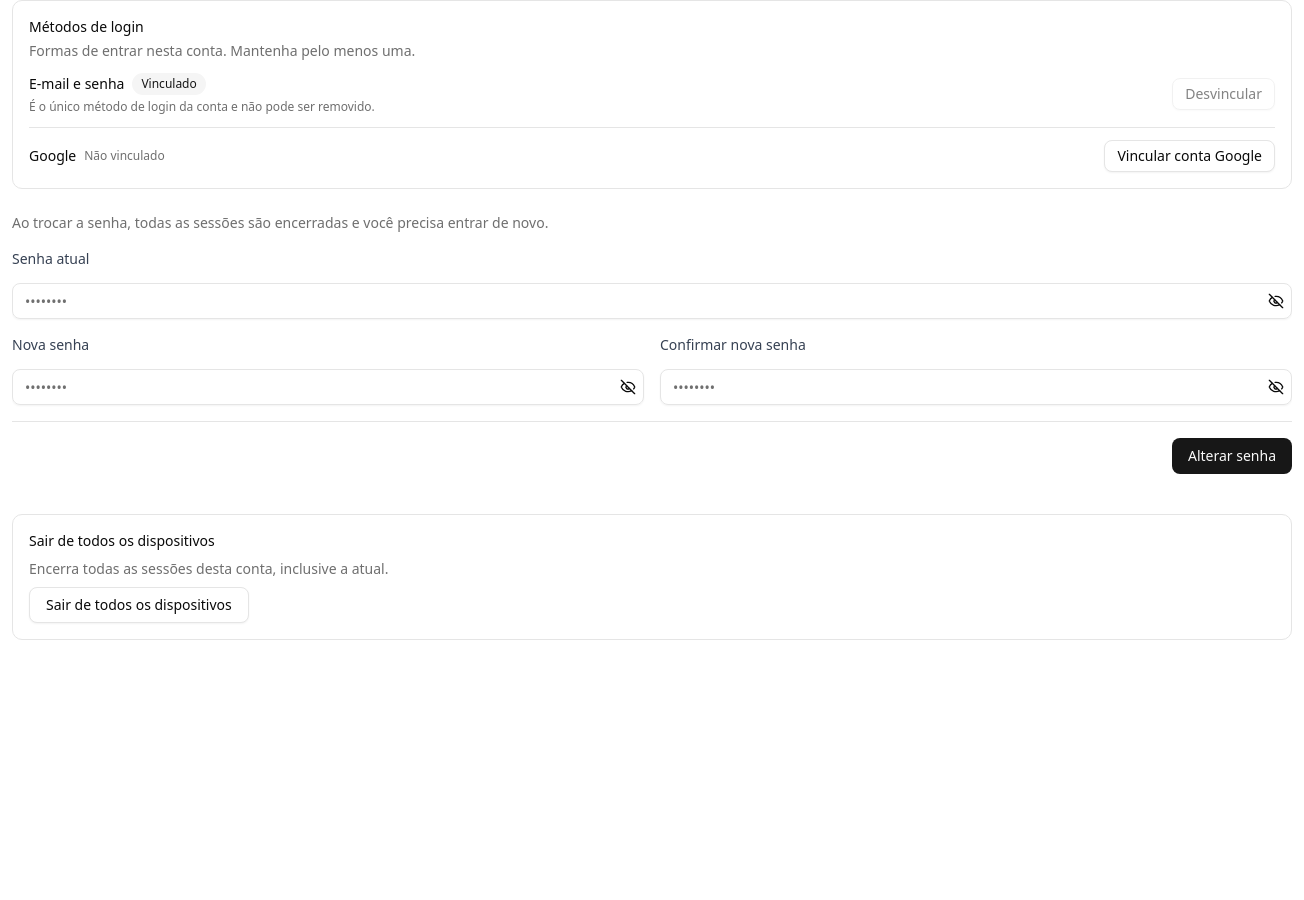
Test: AccountSecurityForm — troca de senha › não envia a troca quando a confirmação não bate
Type "current-secret" into the password field named "currentPassword" at [652, 301], box [12,283,1292,319]
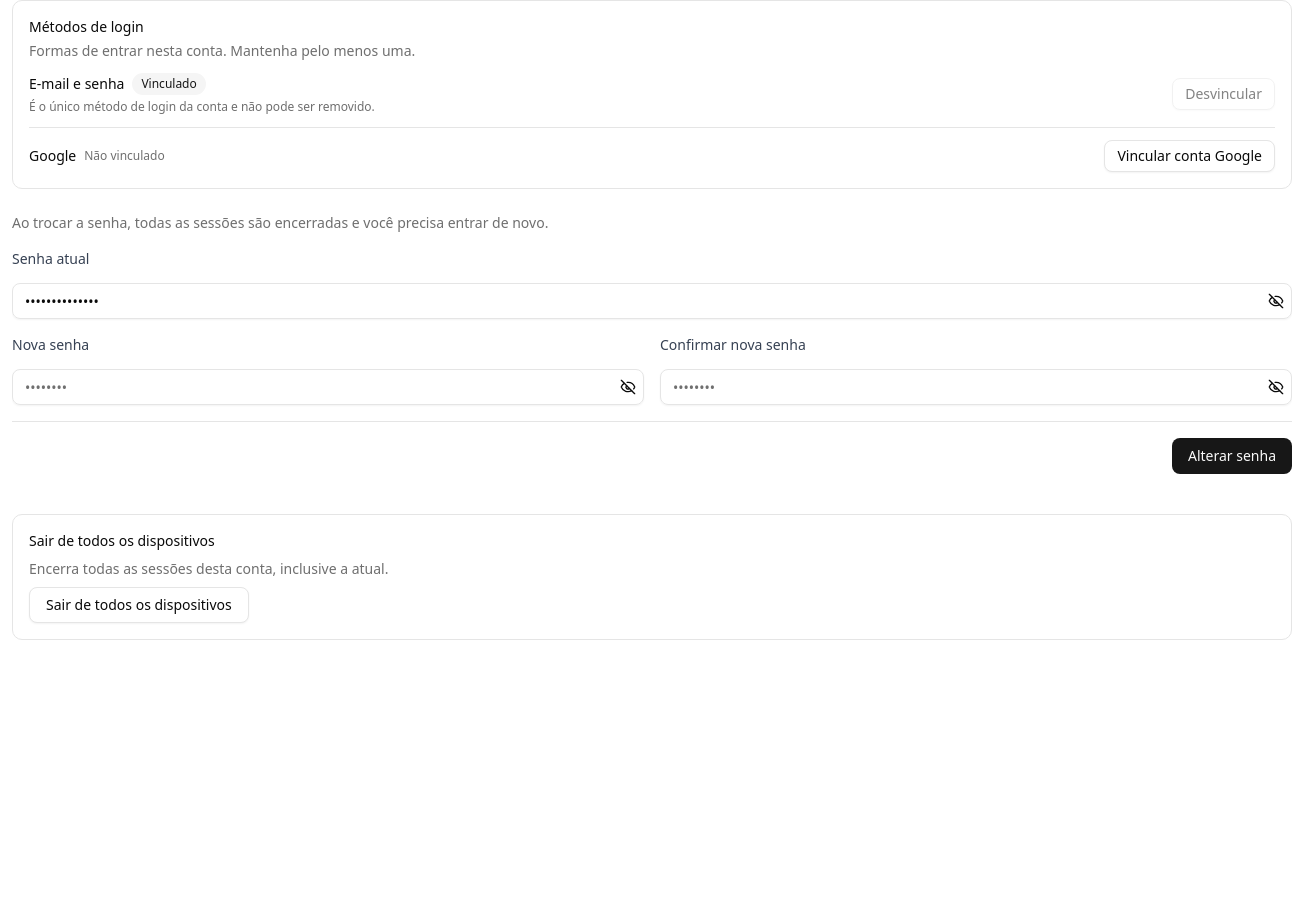
Type "brand-new-secret" into the password field labelled "Nova senha" at [328, 387], box [12,369,644,405]
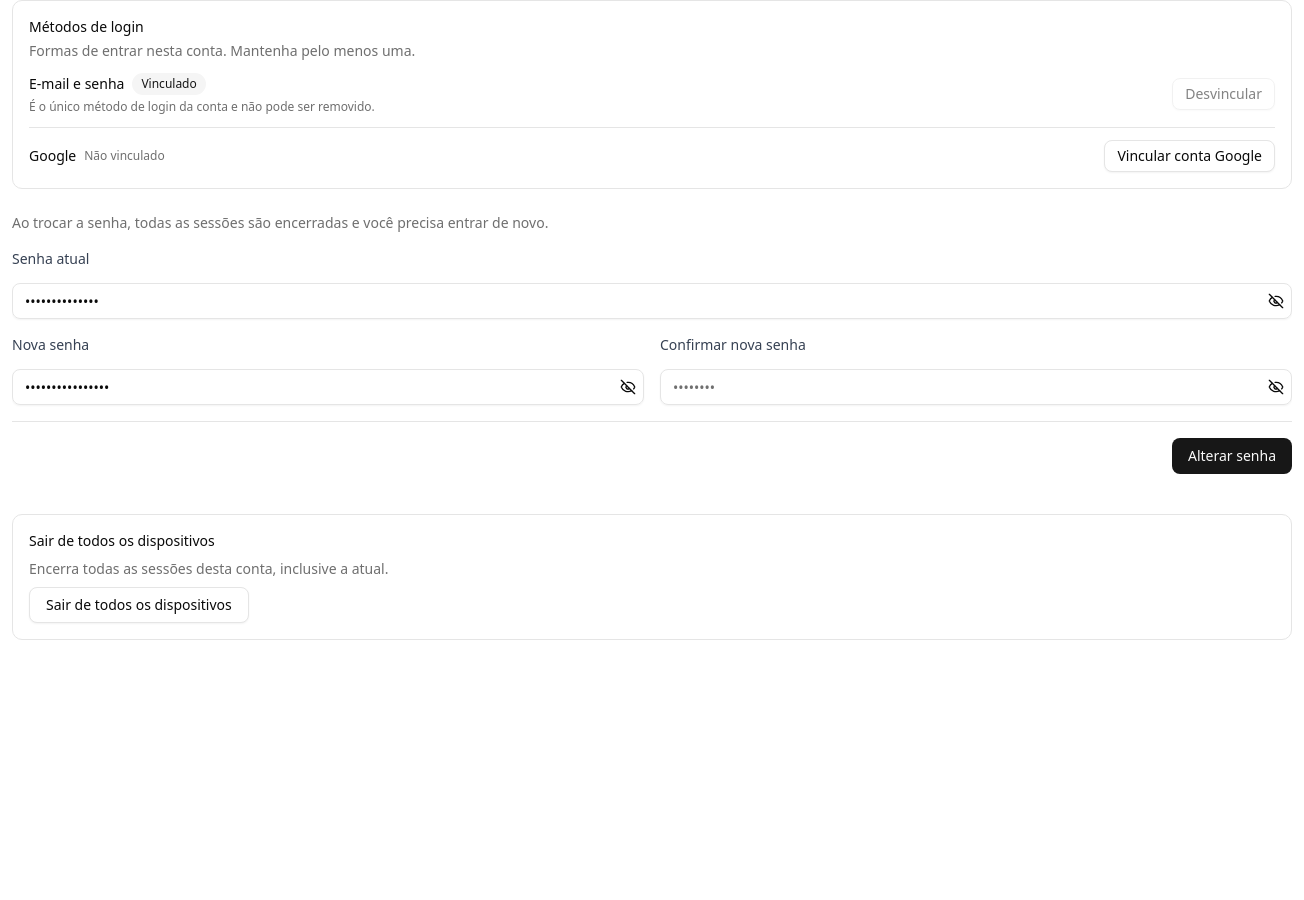
Type "another-secret" into the password field labelled "Confirmar nova senha" at [976, 387], box [660,369,1292,405]
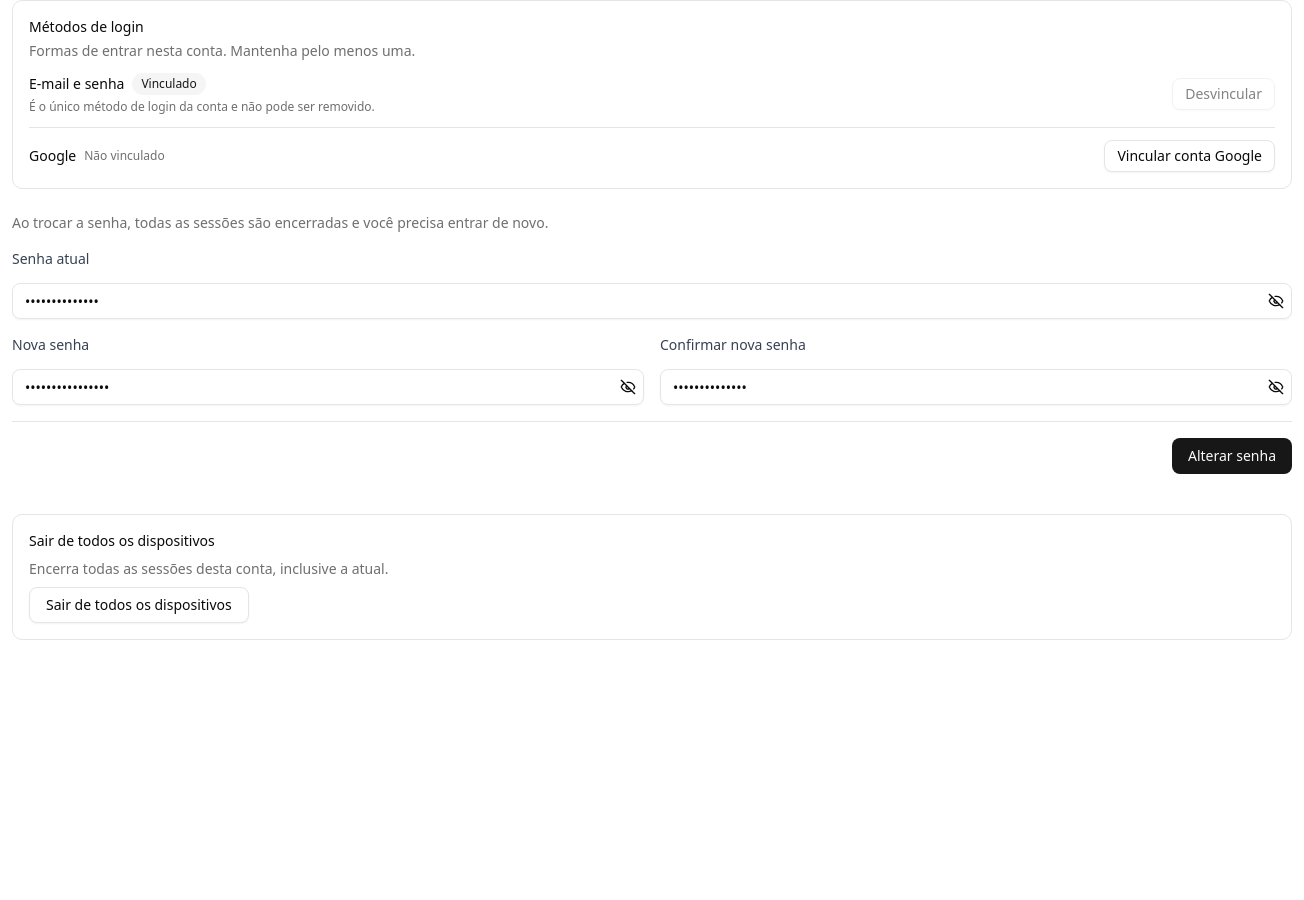
Click the button "Alterar senha" at [1232, 456], box [1172,438,1292,474]
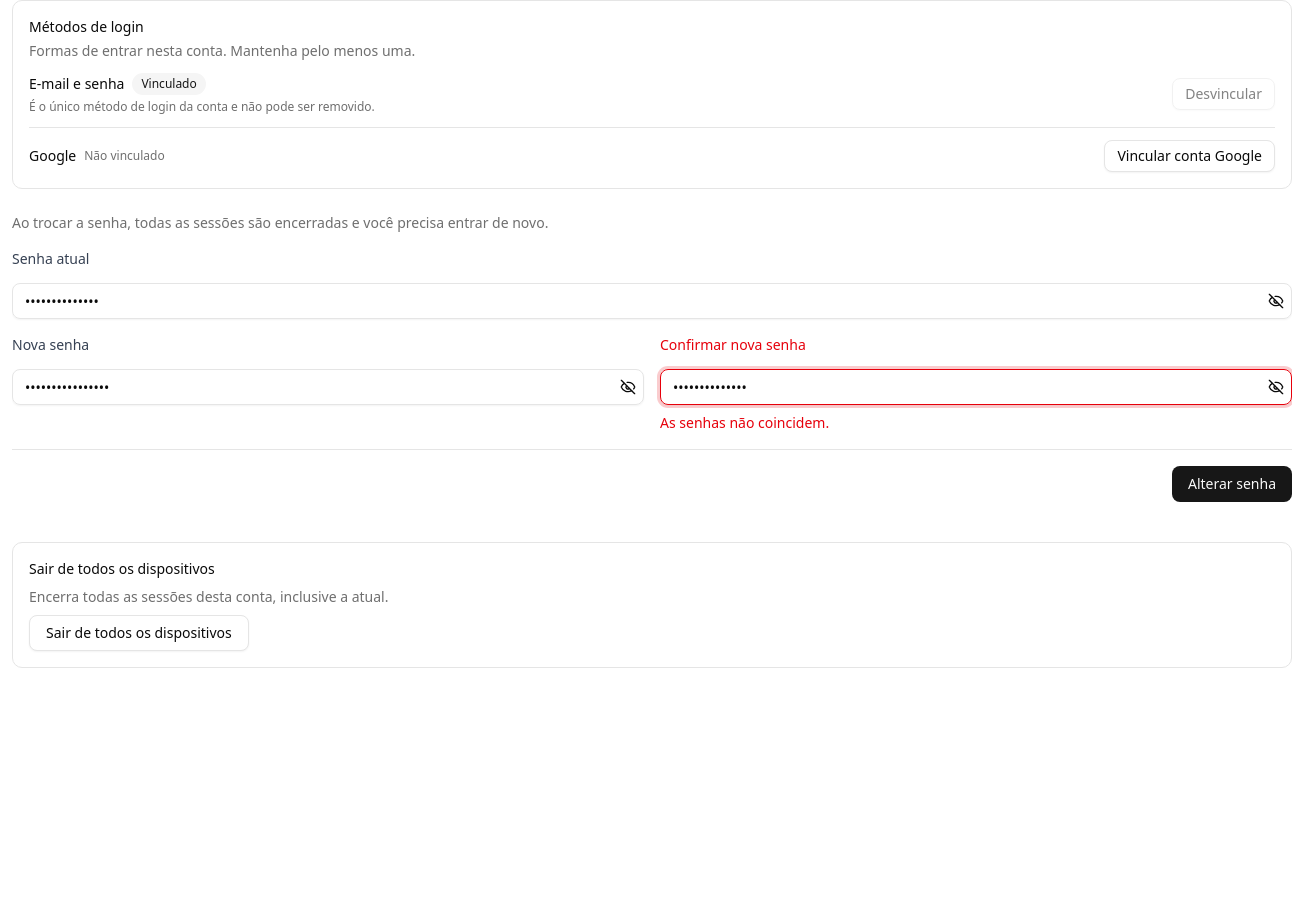
Expected: the text "As senhas não coincidem." is shown, [660,413,829,432]
